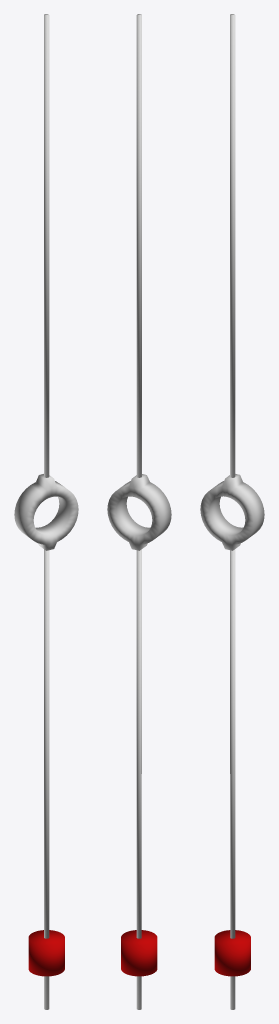
Rendered from pendel2.obj.
3 renders of one model, left to right at view 1: azimuth 30°, elevation 25°; view 2: azimuth 150°, elevation 25°; view 3: azimuth 330°, elevation 25°, orthographic.
Visible parts, largest first — view 1: Cylinder.006; view 2: Cylinder.006; view 3: Cylinder.006.
Part boxes in pixels (bbox=[...]): Cylinder.006: bbox=[14, 14, 78, 1009]; Cylinder.006: bbox=[107, 14, 171, 1009]; Cylinder.006: bbox=[200, 14, 264, 1009].
Size of the model in its own units: 0.5854 by 10.4 by 0.346.
